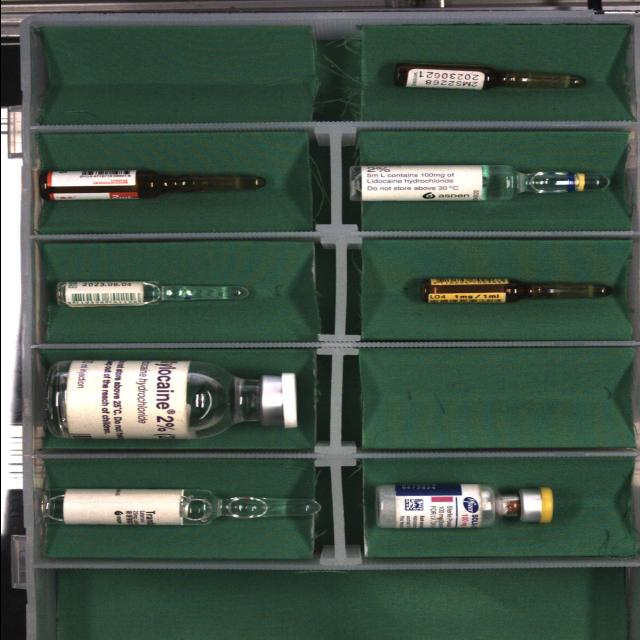Vials: (47, 360, 297, 439), (374, 483, 553, 528)
